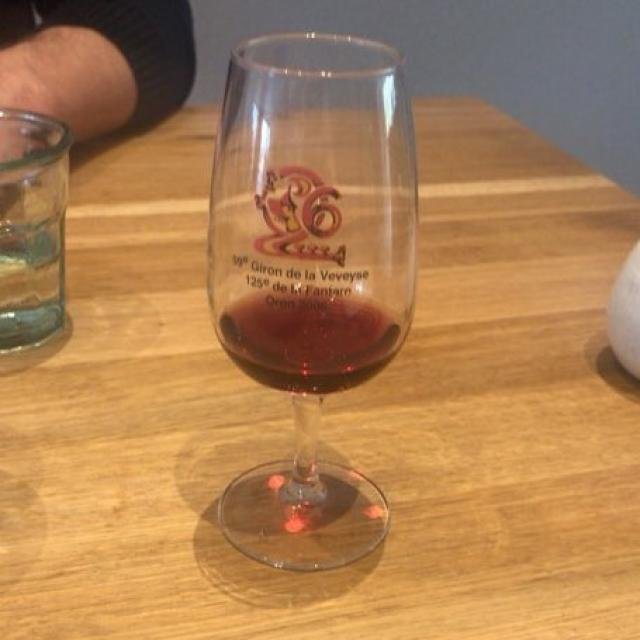wine-red: (220, 297, 399, 382)
